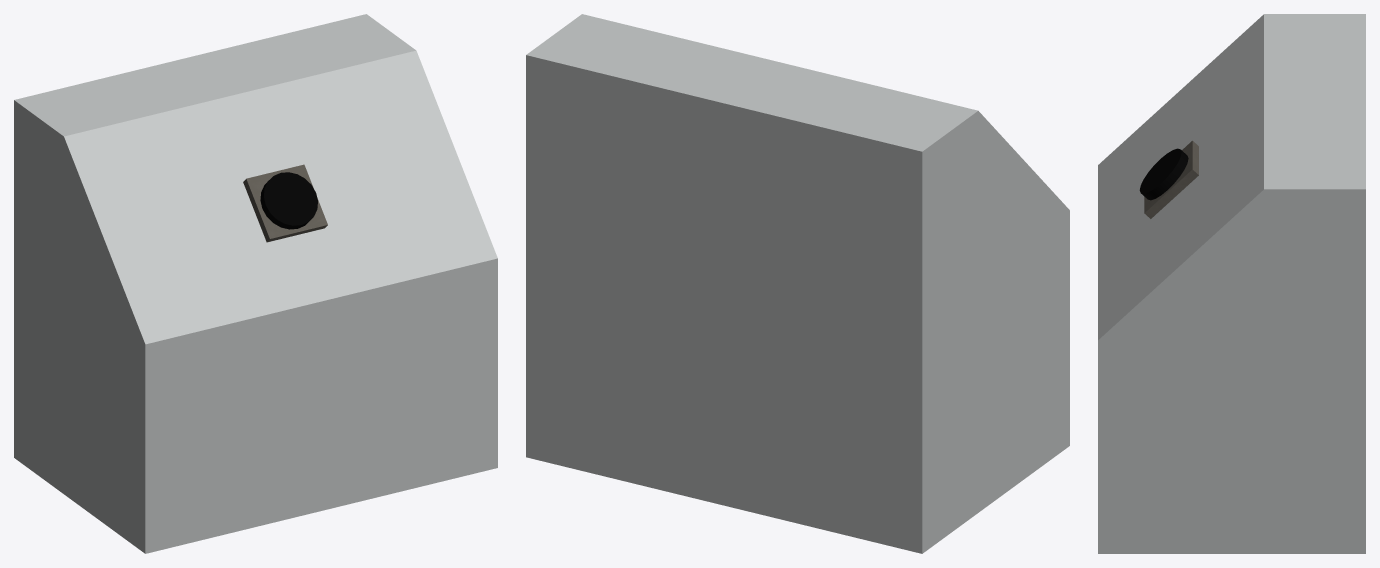
Rendered from Operation Table.fbx.
The picture shows the model from 3 angles, left to right: view 1: azimuth 30°, elevation 25°; view 2: azimuth 150°, elevation 25°; view 3: azimuth 270°, elevation 25°; orthographic projection. The views are drawn at different scales.
Visible parts, largest first — view 1: Operation_Table, Button, ButtomStand; view 2: Operation_Table; view 3: Operation_Table, Button, ButtomStand.
Part boxes in pixels (box(x1,y1,x2,y2)): Operation_Table: box(14, 14, 497, 553); Button: box(260, 172, 317, 229); ButtomStand: box(243, 164, 327, 242); Operation_Table: box(526, 14, 1069, 553); Operation_Table: box(1098, 14, 1365, 553); Button: box(1139, 148, 1188, 200); ButtomStand: box(1144, 140, 1198, 218).
Size of the model in its own units: 6.07 by 5.88 by 3.92.
Materials: 3 (2 with a texture image).
